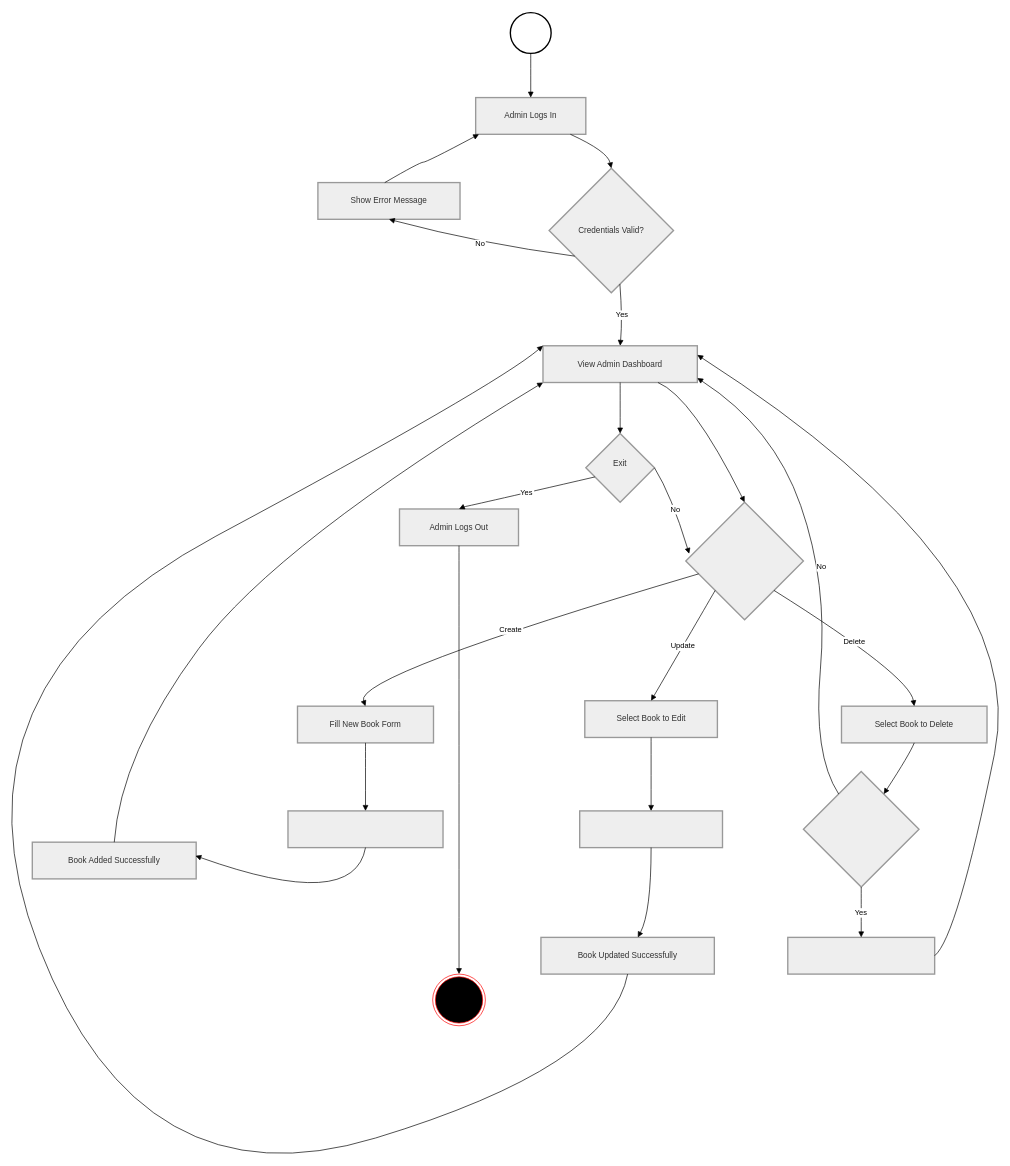
This 1010x1166 diagram has some shape labels left out. The centre of each missing label's shape, as x and y in pixels:
Confirm Delete?: pixel 860 828
Delete from Database: pixel 861 955
Modify Fields & Save: pixel 651 829
Save Book to Database: pixel 365 829
Select Operation: pixel 744 560
